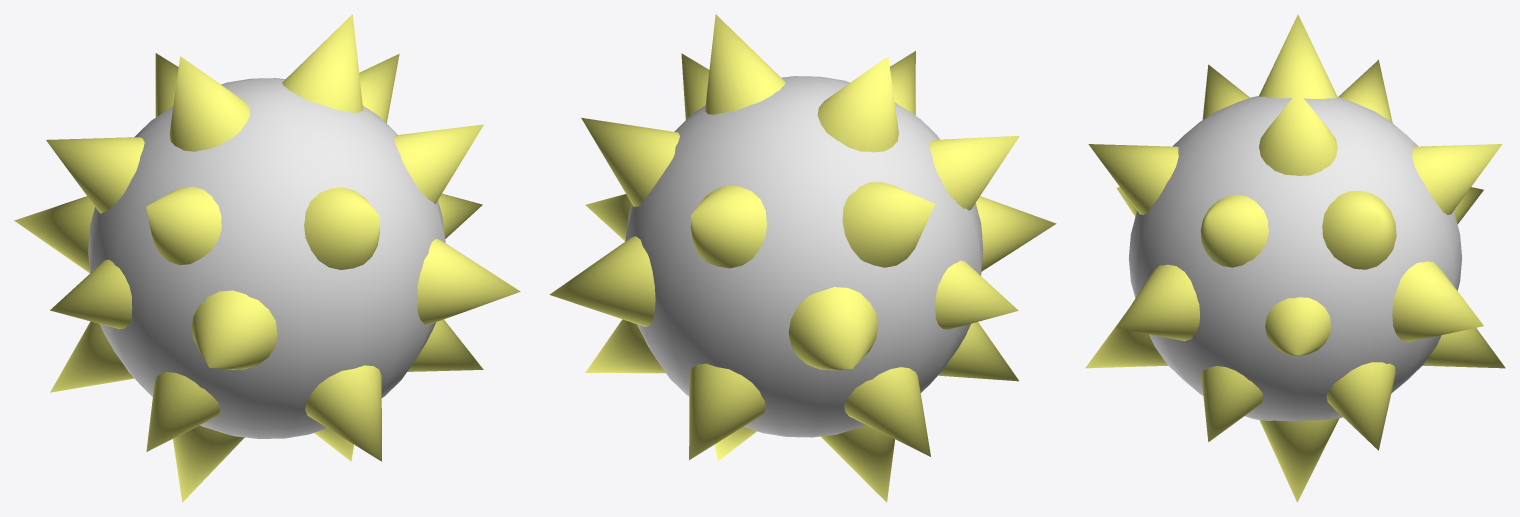
File: Withdrawal_3.fbx
3 views of the same model, side by side, from view 1: azimuth 30°, elevation 25°; view 2: azimuth 150°, elevation 25°; view 3: azimuth 270°, elevation 25° (orthographic). The views are drawn at different scales.
Visible parts, largest first — view 1: Withdrawal_3; view 2: Withdrawal_3; view 3: Withdrawal_3.
Boxes of the visible parts, box(x1,y1,x2,y2) form: Withdrawal_3: box(14, 14, 520, 502); Withdrawal_3: box(549, 14, 1056, 502); Withdrawal_3: box(1085, 14, 1505, 502).
Bounding box in the file's own units: 2.79 × 2.75 × 2.55.
